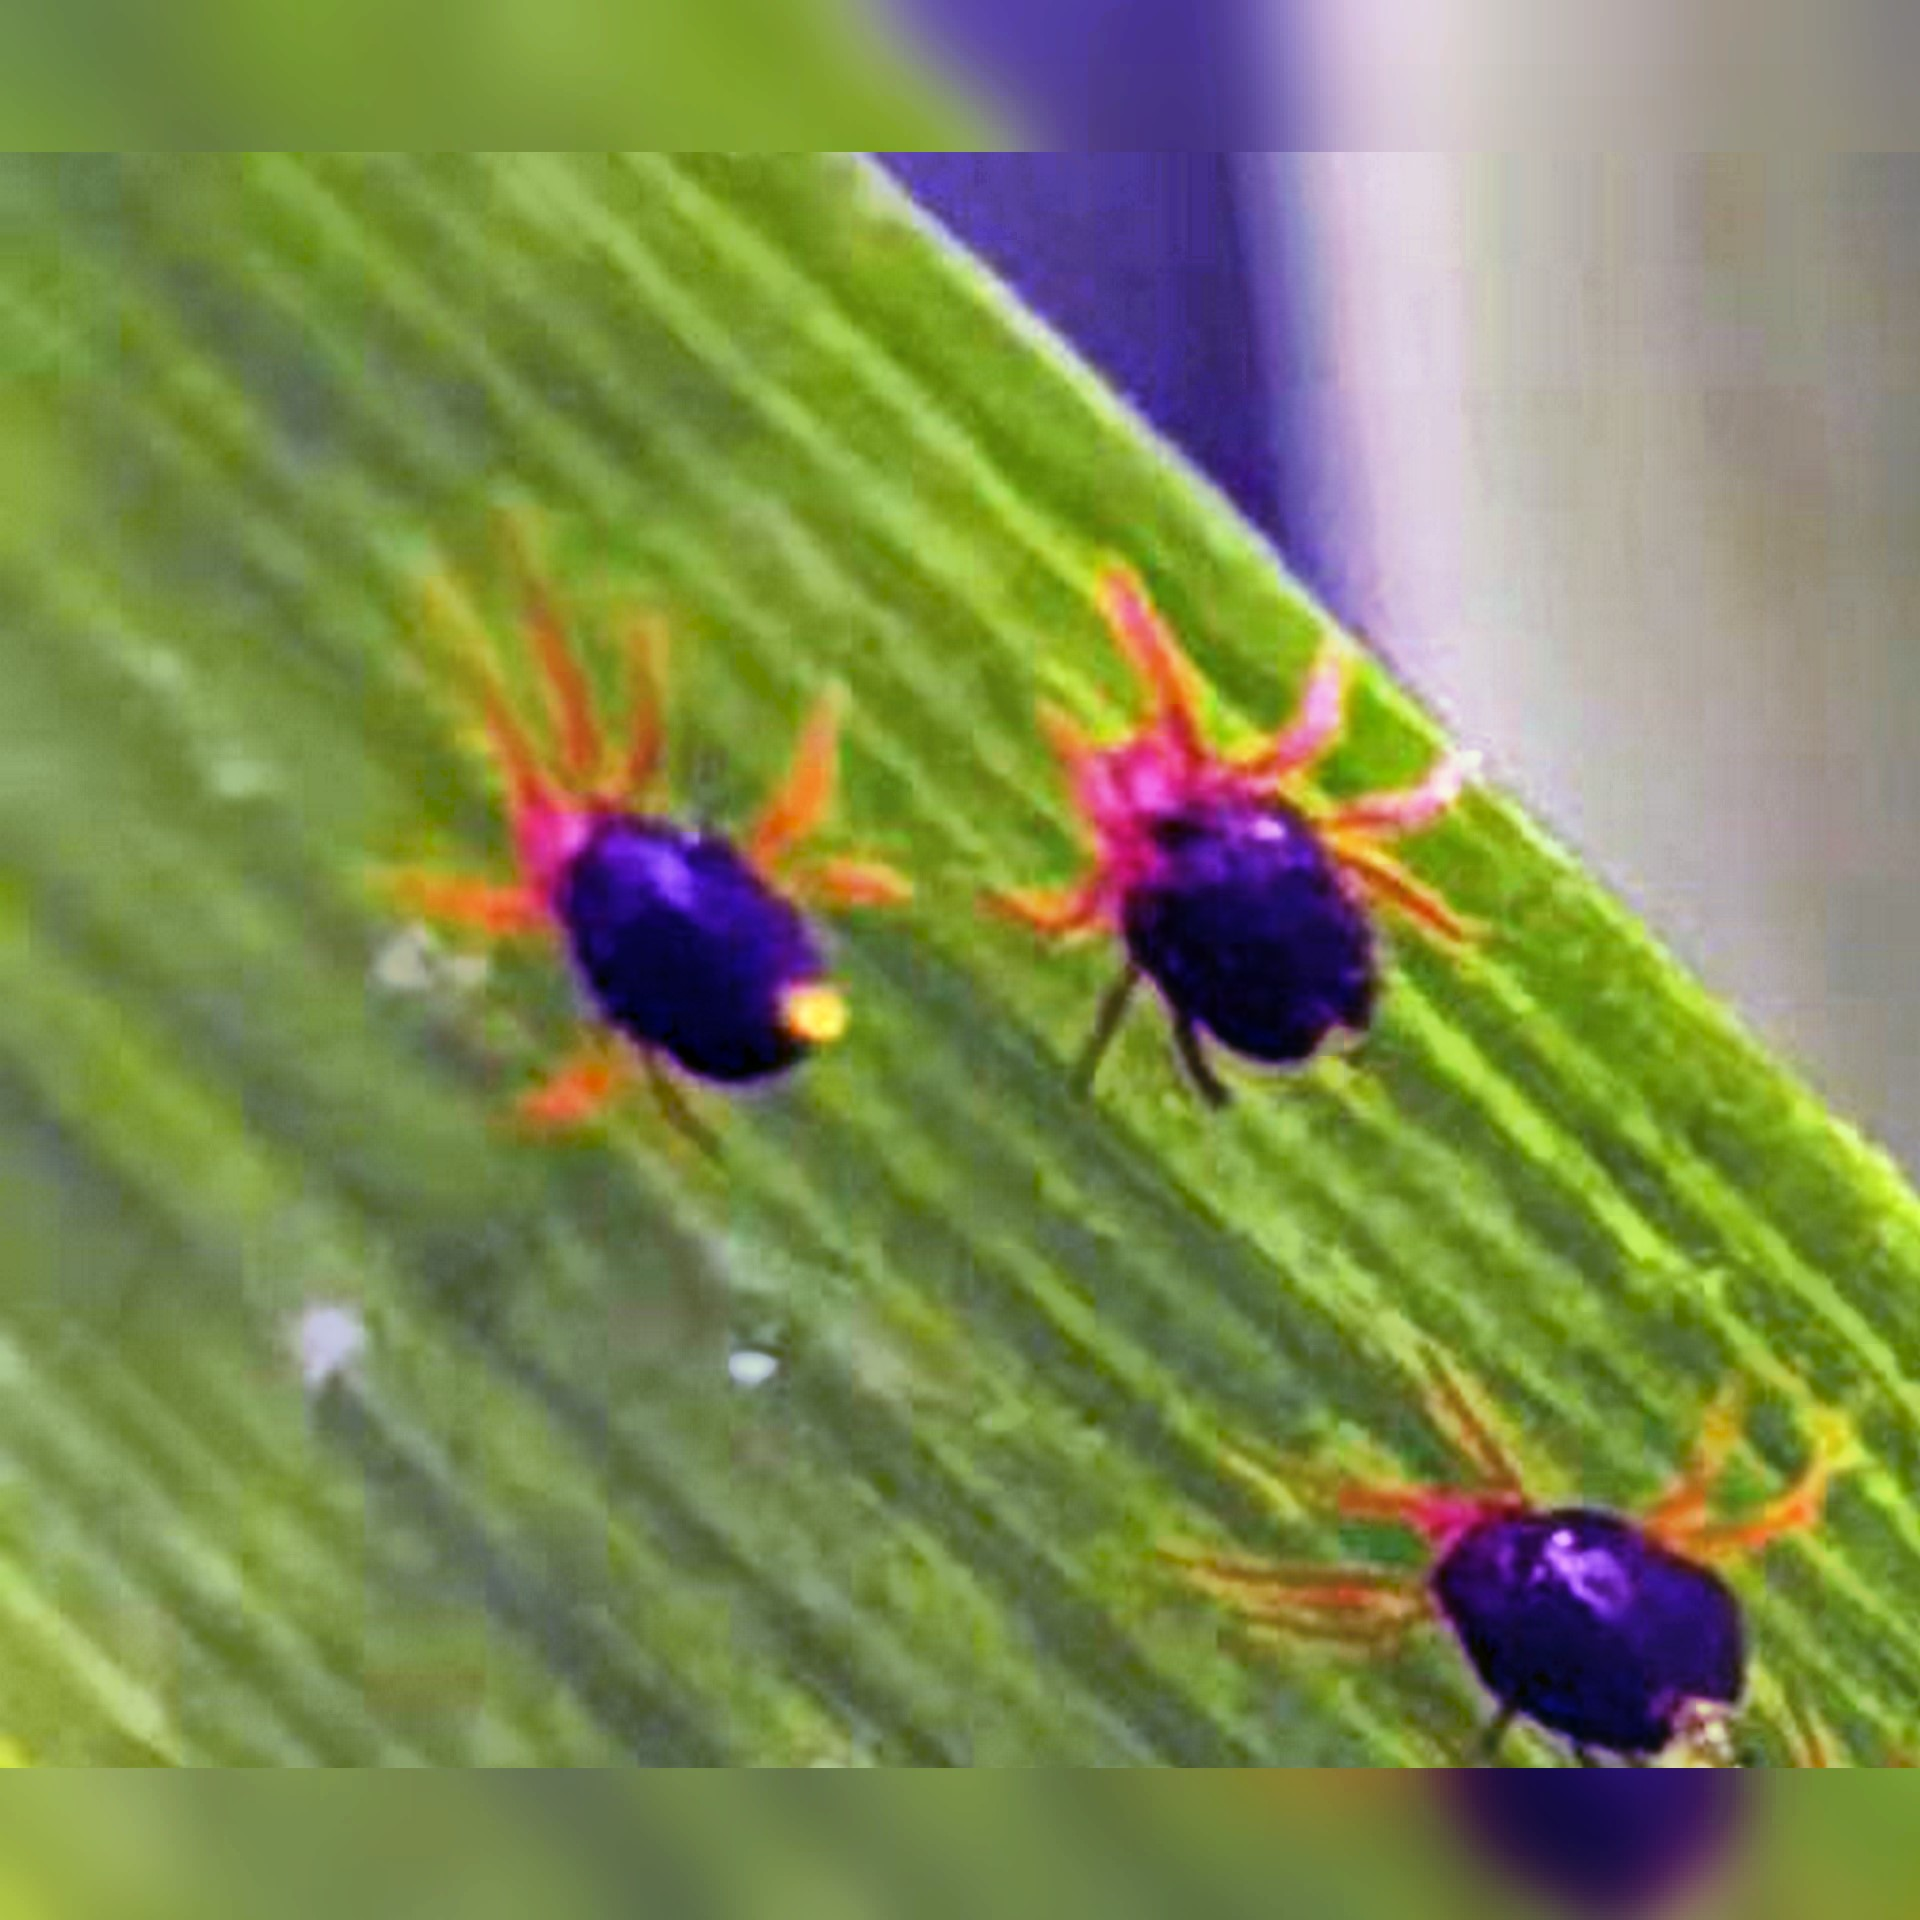Wheat Red Spider: (949, 563, 1521, 1132)
